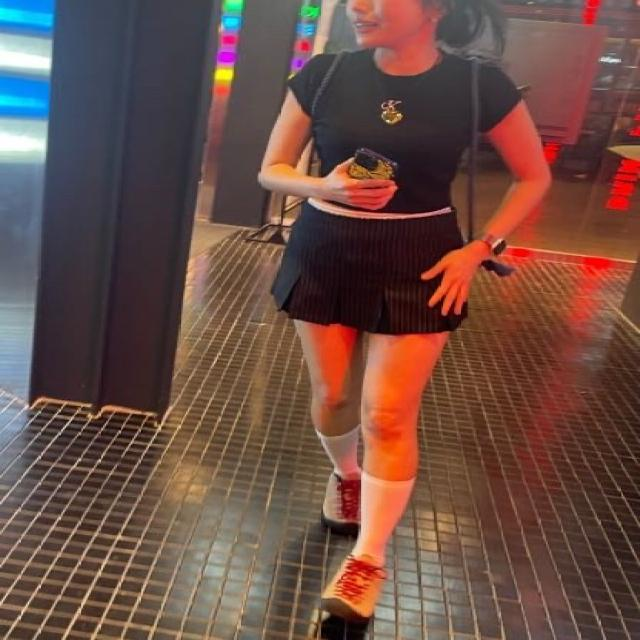shortsleeve: (286, 46, 526, 214)
skirt: (268, 209, 470, 335)
